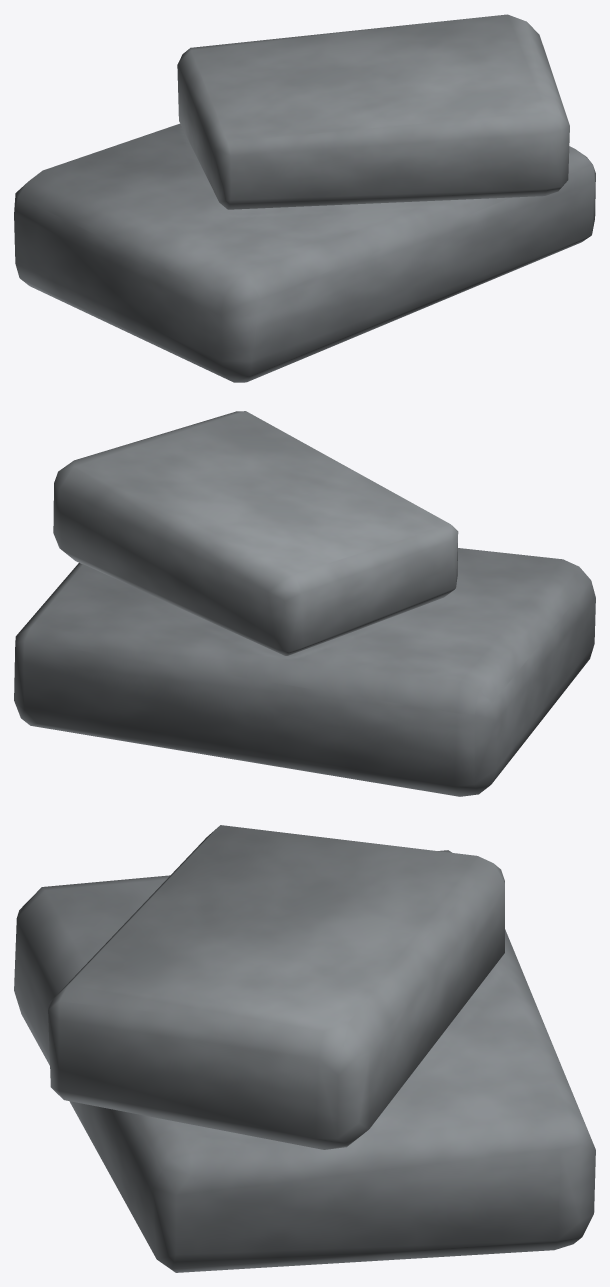
File: rock_c.lo.glb
3 renders of one model, top to bottom at view 1: azimuth 30°, elevation 25°; view 2: azimuth 150°, elevation 25°; view 3: azimuth 270°, elevation 25°, orthographic. The views are drawn at different scales.
Visible parts, largest first — view 1: rock; view 2: rock; view 3: rock.
Part boxes in pixels (x1,y1,x2,y2): rock: (14, 14, 595, 382); rock: (14, 411, 595, 796); rock: (14, 825, 595, 1272).
Size of the model in its own units: 2.42 by 0.9404 by 1.89.
Materials: 1 (1 with a texture image).
